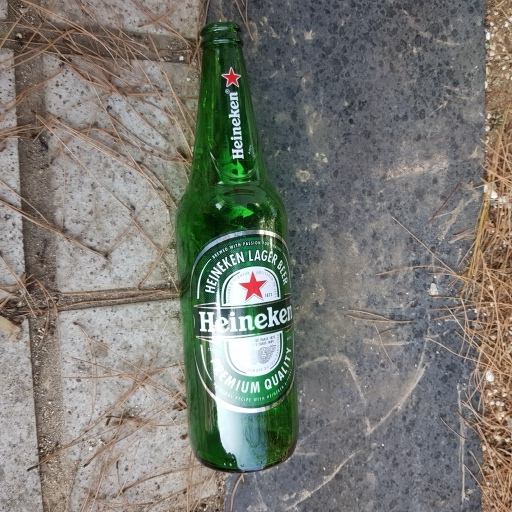Glass_1: (170, 26, 304, 473)
